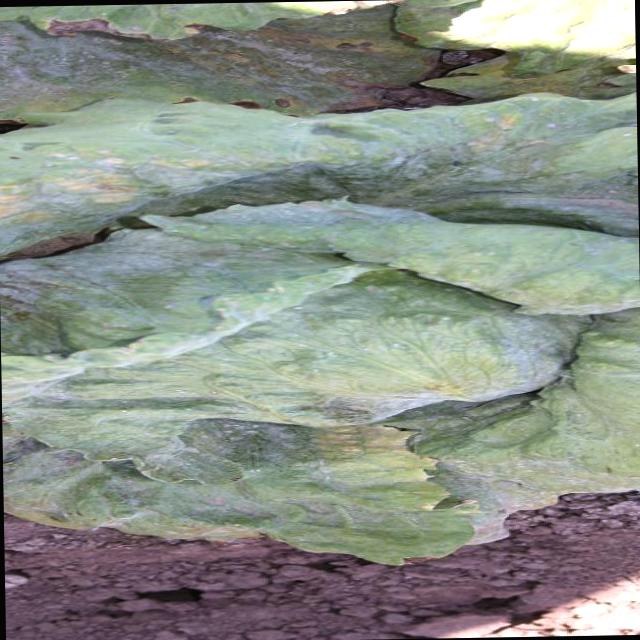Powdery_mildew: (26, 104, 635, 498)
